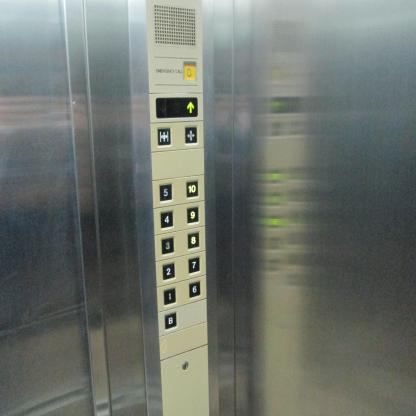1: (162, 286, 178, 308)
10: (185, 179, 199, 200)
2: (161, 262, 176, 282)
3: (160, 235, 175, 256)
4: (159, 209, 174, 230)
5: (158, 182, 173, 204)
6: (188, 280, 201, 300)
7: (186, 255, 200, 275)
8: (186, 230, 200, 250)
9: (186, 205, 200, 225)
B: (163, 311, 178, 331)
alarm: (183, 61, 197, 82)
close: (184, 125, 198, 145)
keyhole: (181, 361, 188, 370)
led: (155, 97, 198, 118)
open: (156, 126, 172, 148)
